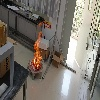fire: (31, 31, 43, 70), (39, 20, 43, 26)
